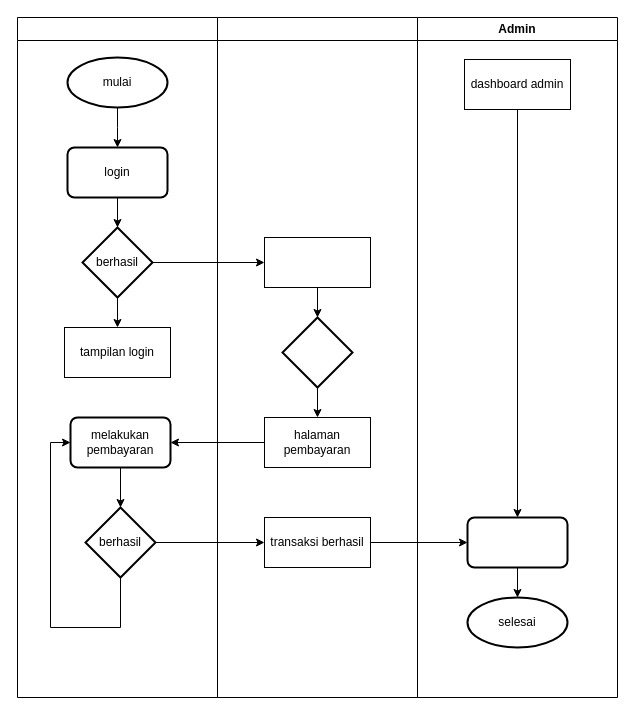
This 635x715 diagram has some shape labels left out. The shapes that lost their labels are listed below. From the top down, each one's box as (x1, y1, x2, y2) in pixels, then its label:
(264, 236, 370, 288): dashboard user
(16, 16, 218, 698): User
(281, 316, 353, 388): bayar tagihan
(216, 16, 418, 698): Sistem
(466, 516, 568, 568): cetak laporan
